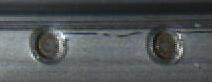joints: (27, 25, 67, 66), (145, 24, 183, 64)
